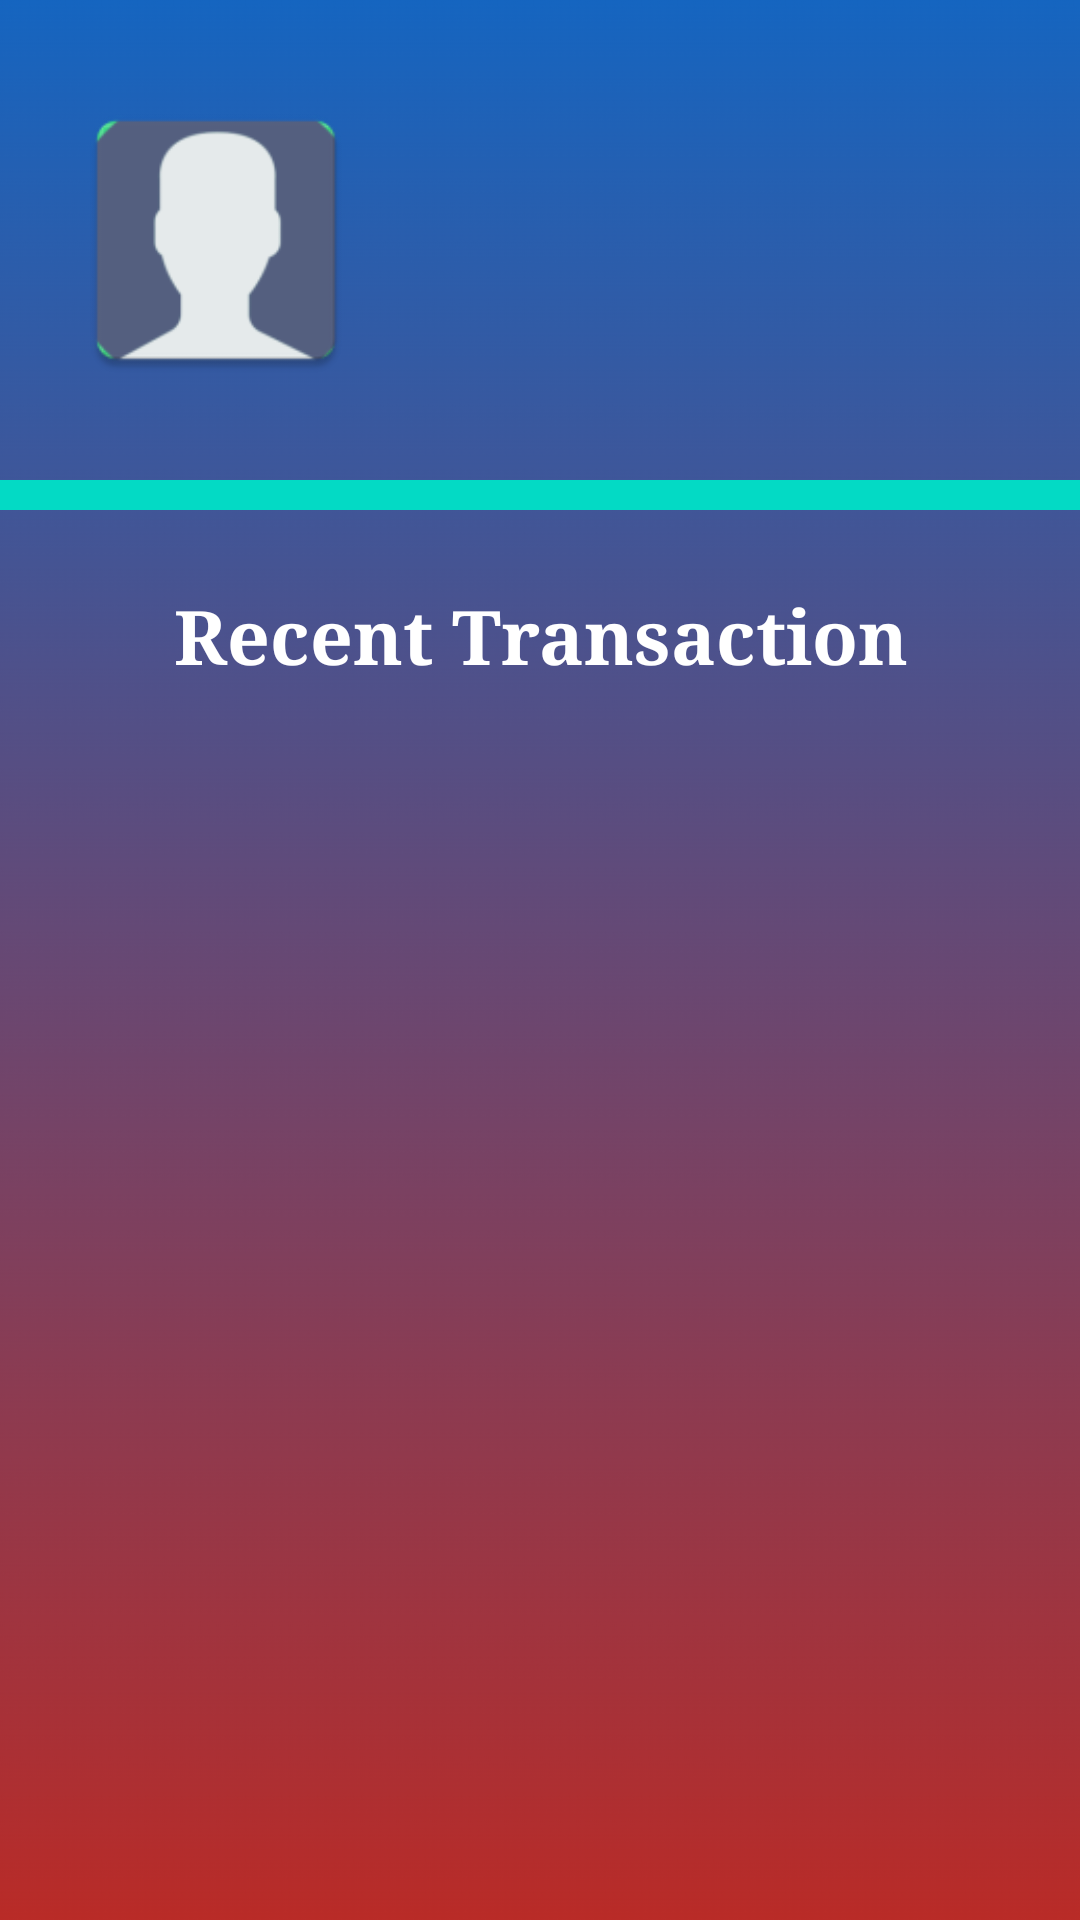

Icons on this 1080 x 1920 Android screen, each with the point to tap as (x=x, y=y):
user: (x=216, y=239)
